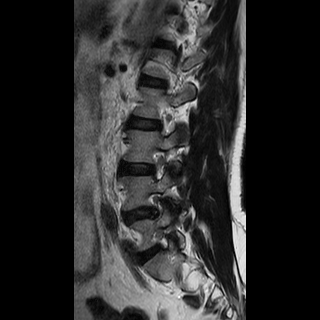LFS0: (148, 224, 175, 255)
LFS1: (143, 188, 169, 222)
